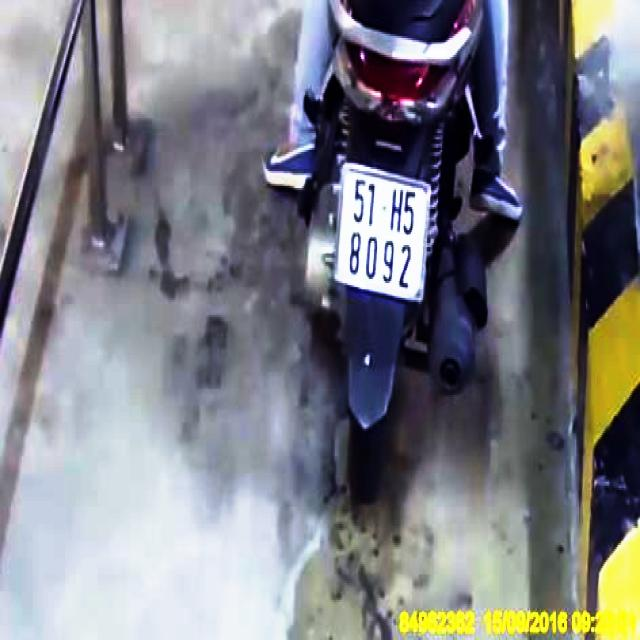license_plate: (337, 163, 434, 304)
